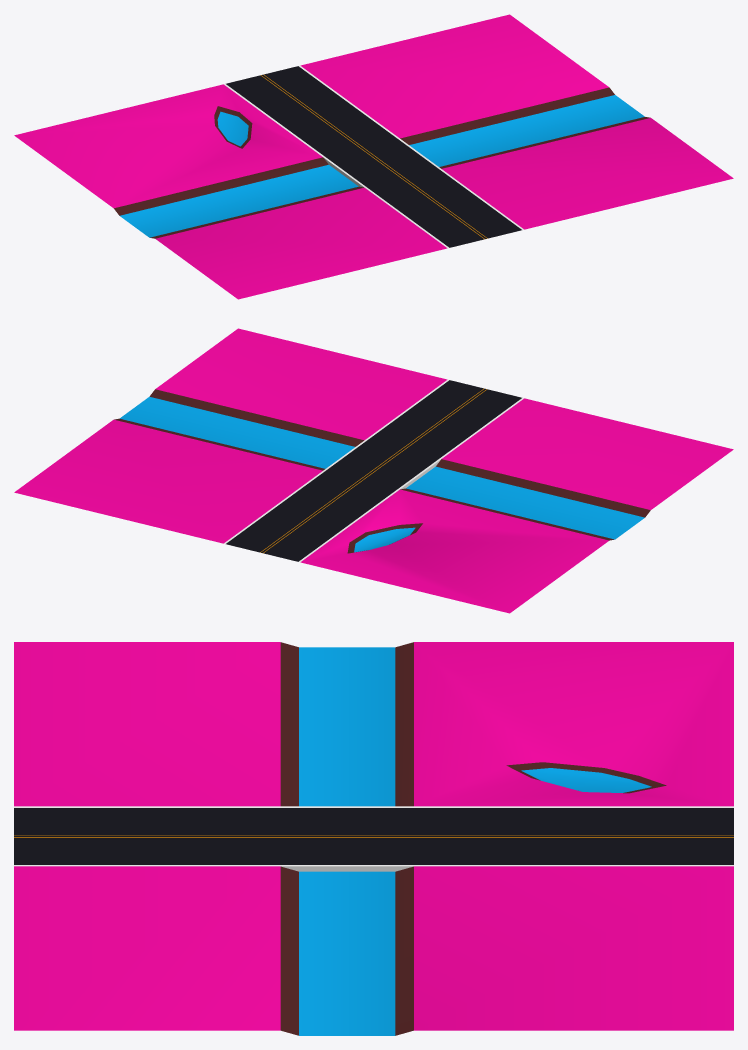
The model's file is Rivertrack.fbx.
The picture shows the model from 3 angles, top to bottom: view 1: azimuth 30°, elevation 25°; view 2: azimuth 150°, elevation 25°; view 3: azimuth 270°, elevation 25°; orthographic projection. The views are drawn at different scales.
Parts seen in each view (by area): view 1: Plane_2; view 2: Plane_2; view 3: Plane_2.
Boxes of the visible parts, x1,y1,x2,y2 form: Plane_2: [14, 14, 733, 299]; Plane_2: [14, 328, 733, 613]; Plane_2: [14, 642, 733, 1035].
Size of the model in its own units: 2724 by 16.99 by 2133.
